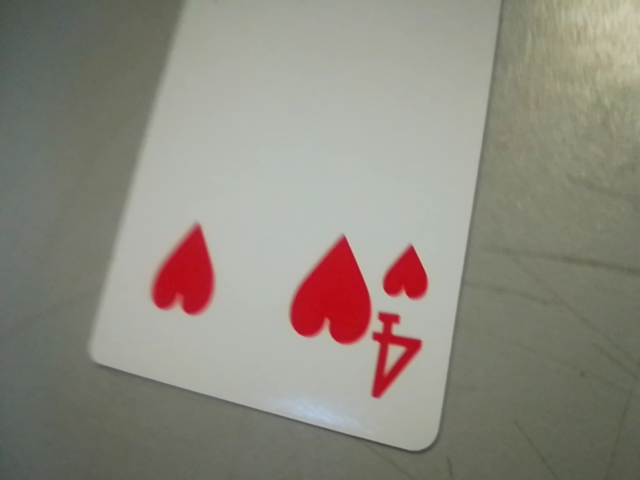hx 4: (361, 228, 444, 418)
